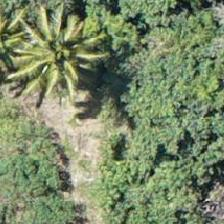coconut_tree: (10, 4, 100, 94)
